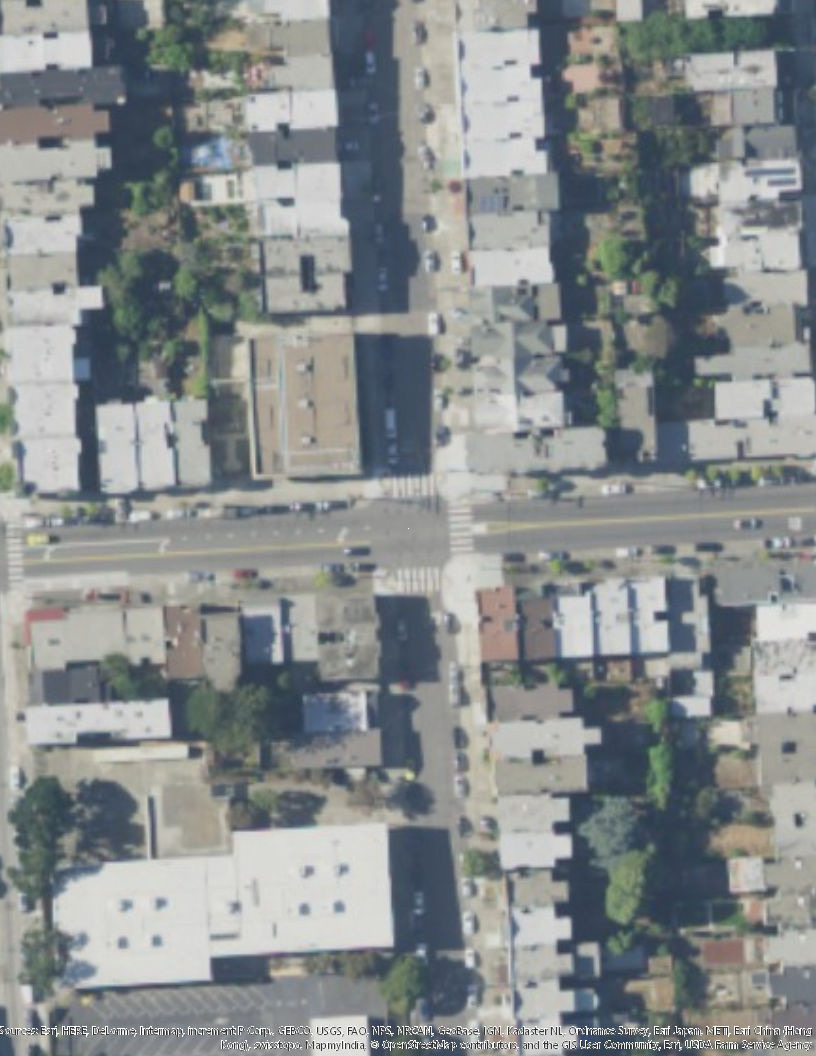zebracross: (445, 501, 475, 555), (3, 522, 26, 587), (395, 566, 447, 593), (390, 472, 442, 498)
